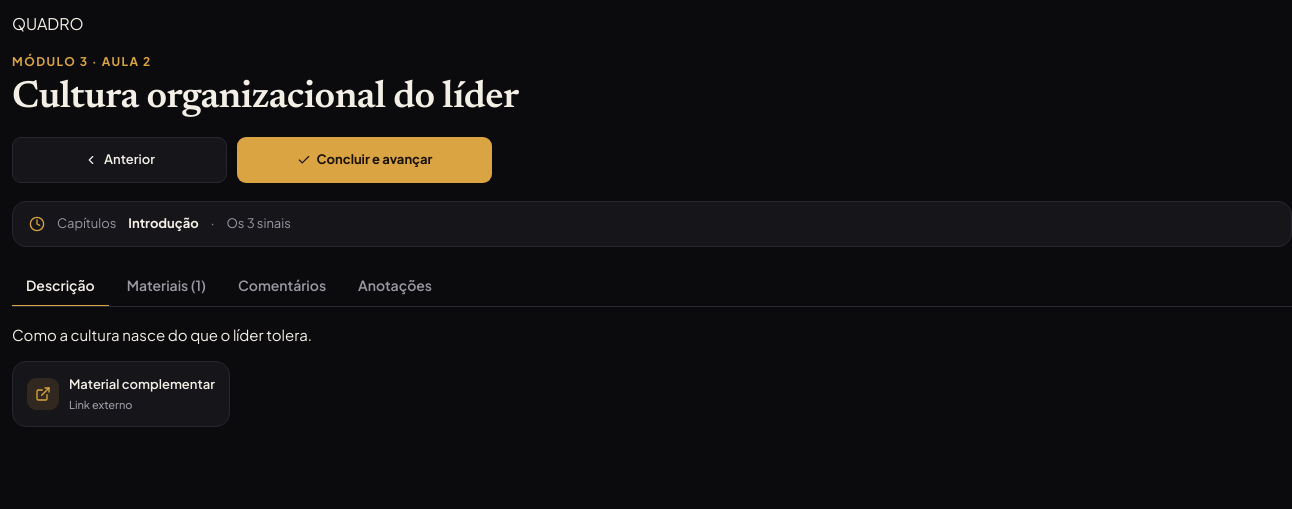
it: AulaInterativa (estados da página) › recusa da action aparece e não navega
The width and height of the screenshot is (1292, 509).
Click the button "Concluir e avançar" at coordinates (364, 160), box [237,137,492,183]
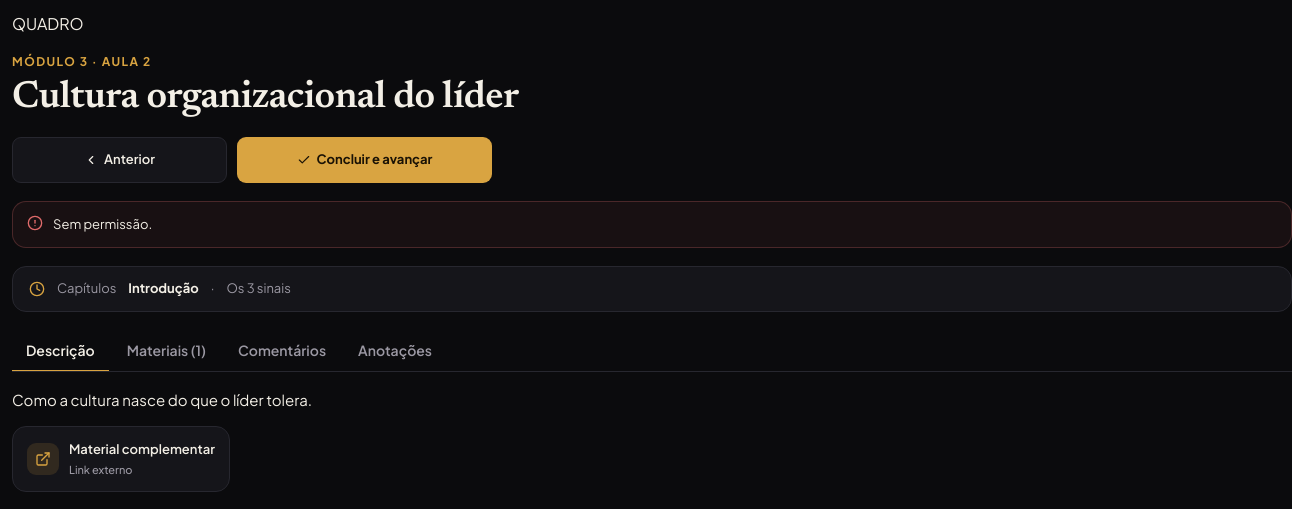
Expected: the message reads "Sem permissão.", [53,216,152,232]
